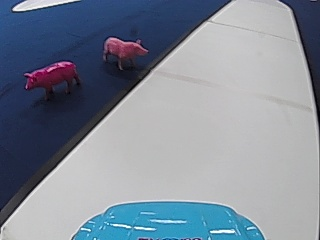pig: (20, 57, 80, 100), (101, 33, 150, 71)
